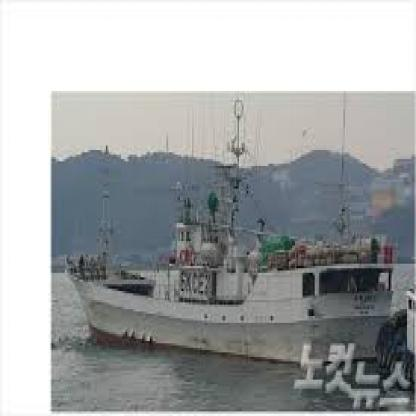fish-b: (63, 82, 404, 382)
